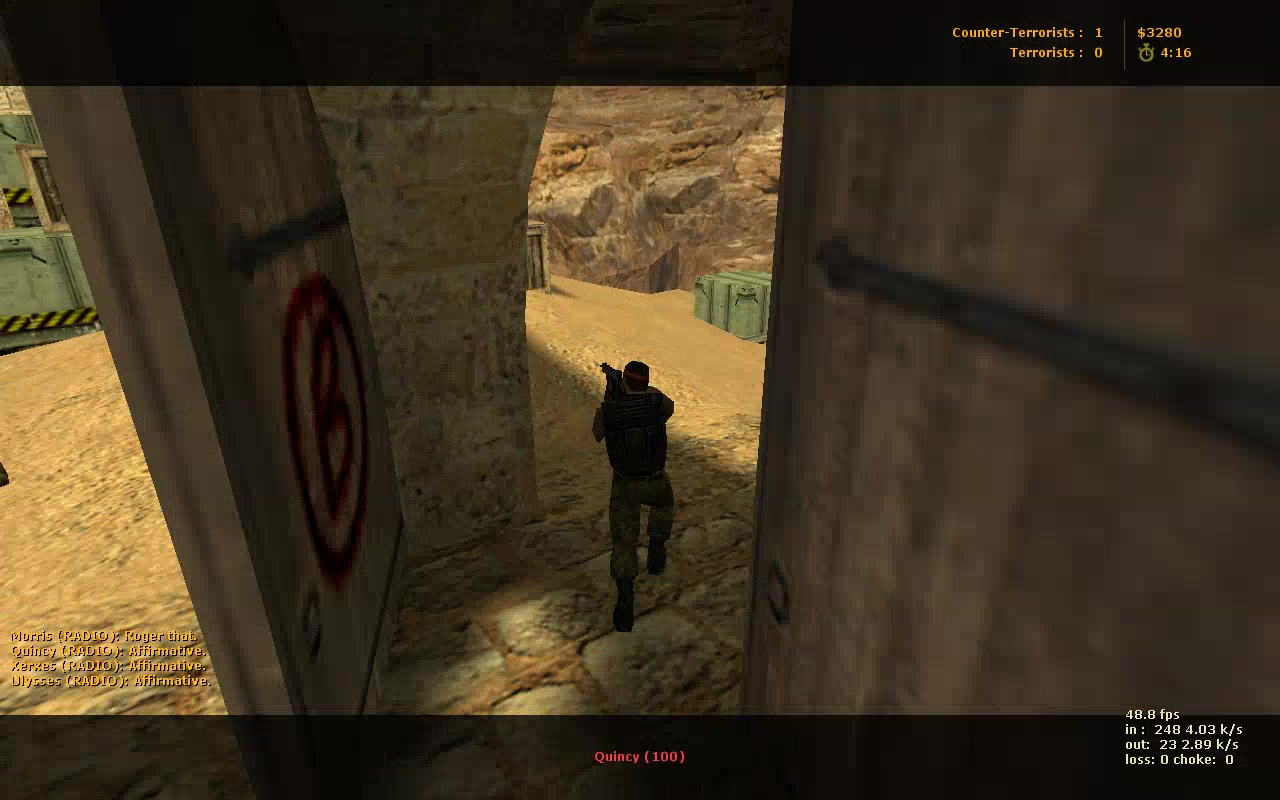terr1: (591, 358, 680, 631)
